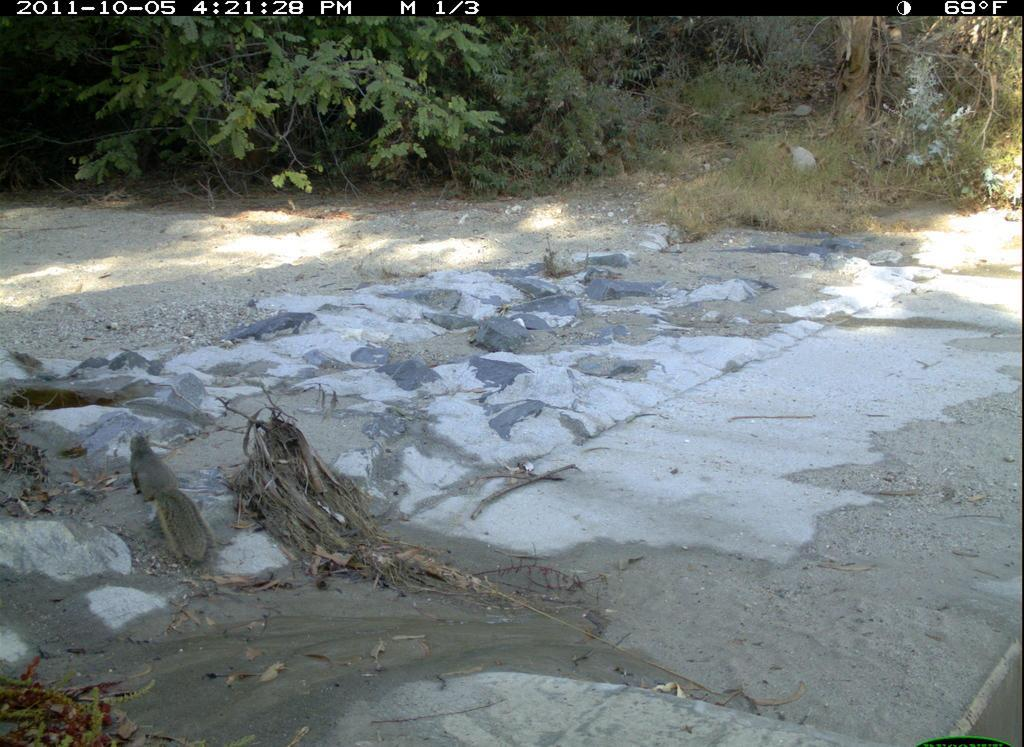squirrel: (111, 408, 225, 574)
